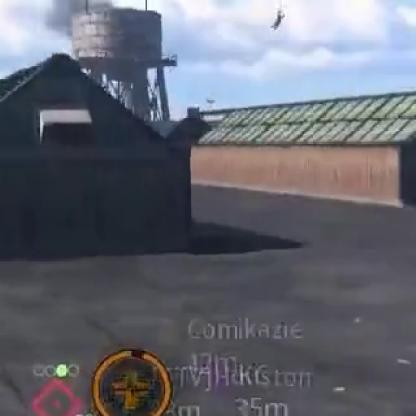enemy: (273, 8, 283, 27)
